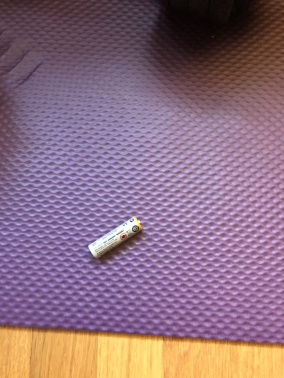battery: (87, 215, 145, 262)
